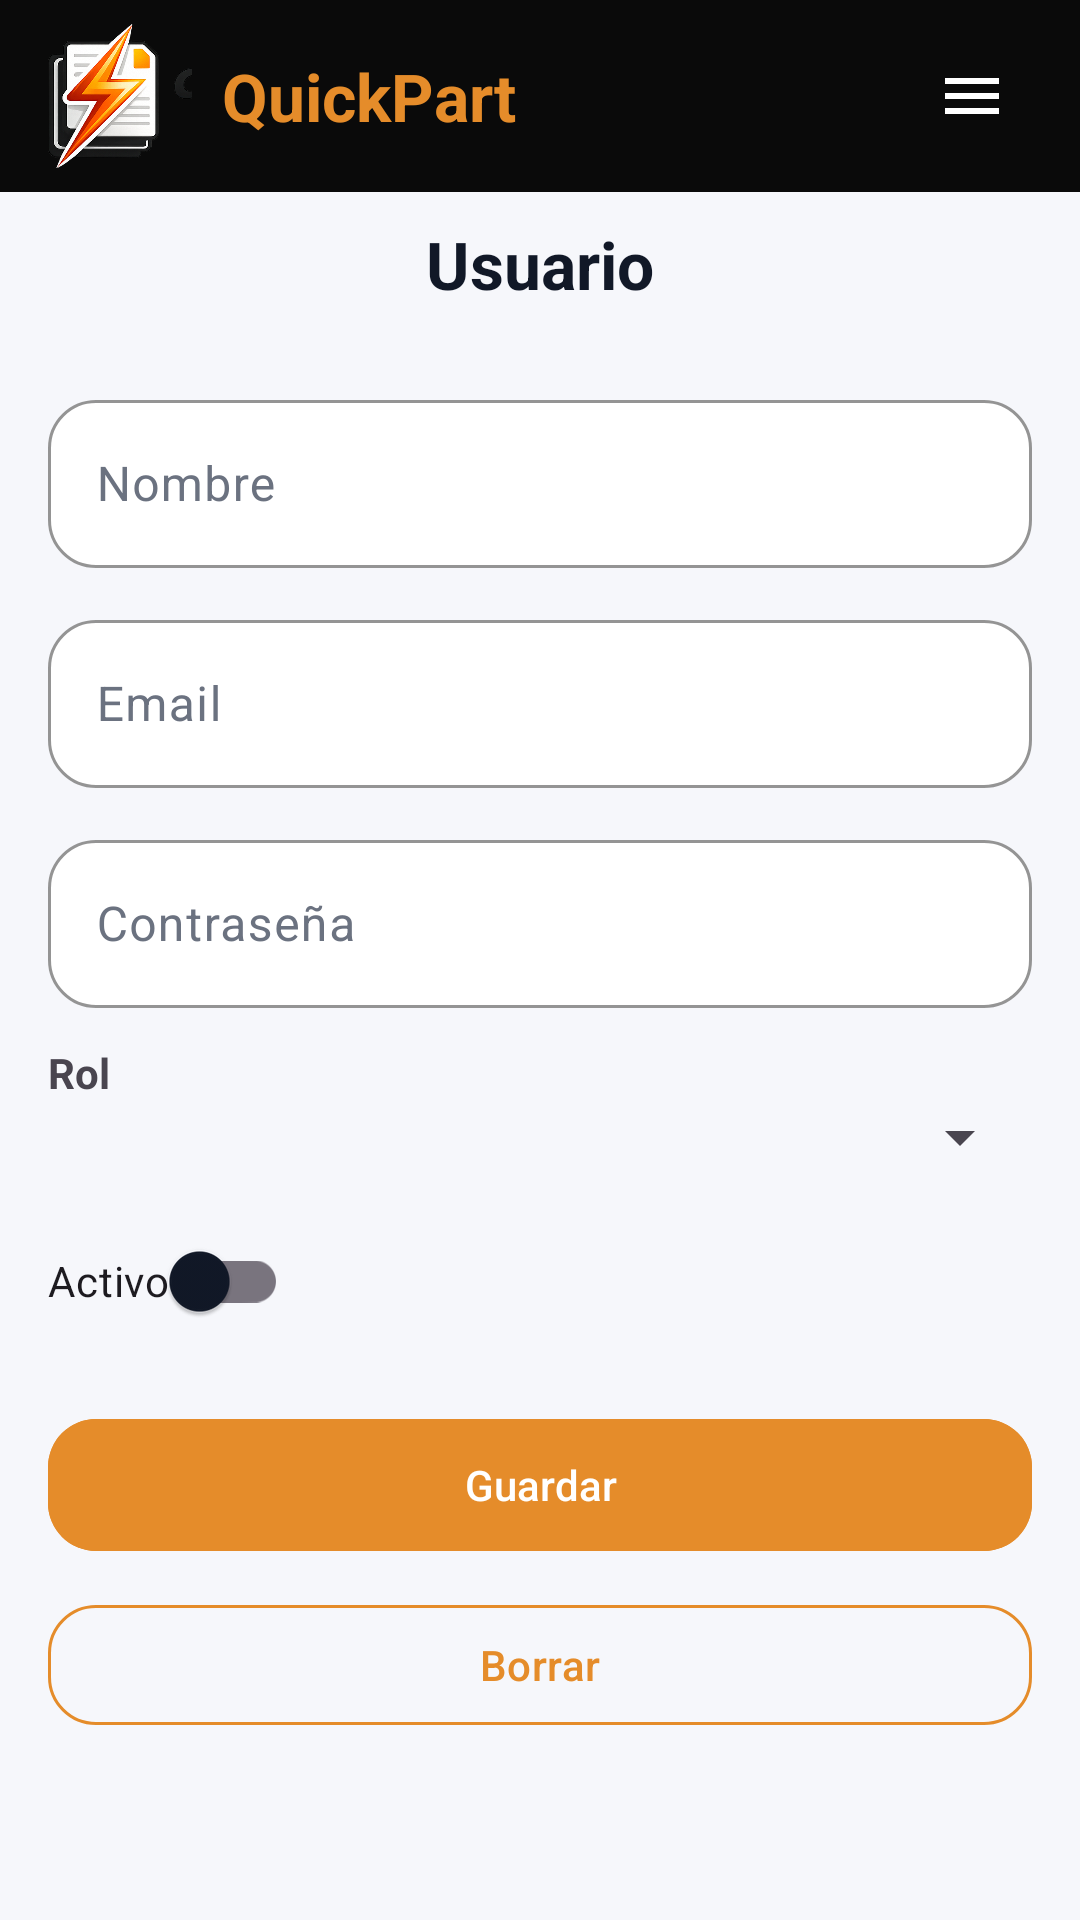

Screen size 1080 x 1920. Icon name, then its box in pixels as [x1,y1,x2,y2]:
Menu: [945,78,999,114]
